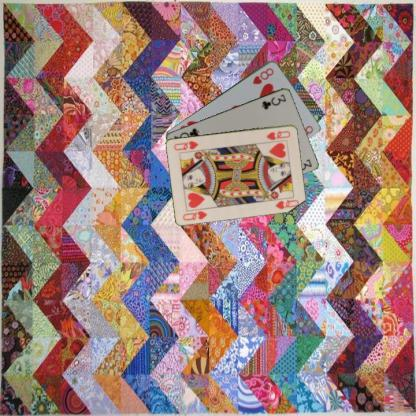3c: (259, 92, 287, 110)
8h: (250, 66, 275, 86)
Qh: (264, 128, 292, 141), (180, 208, 208, 221)
